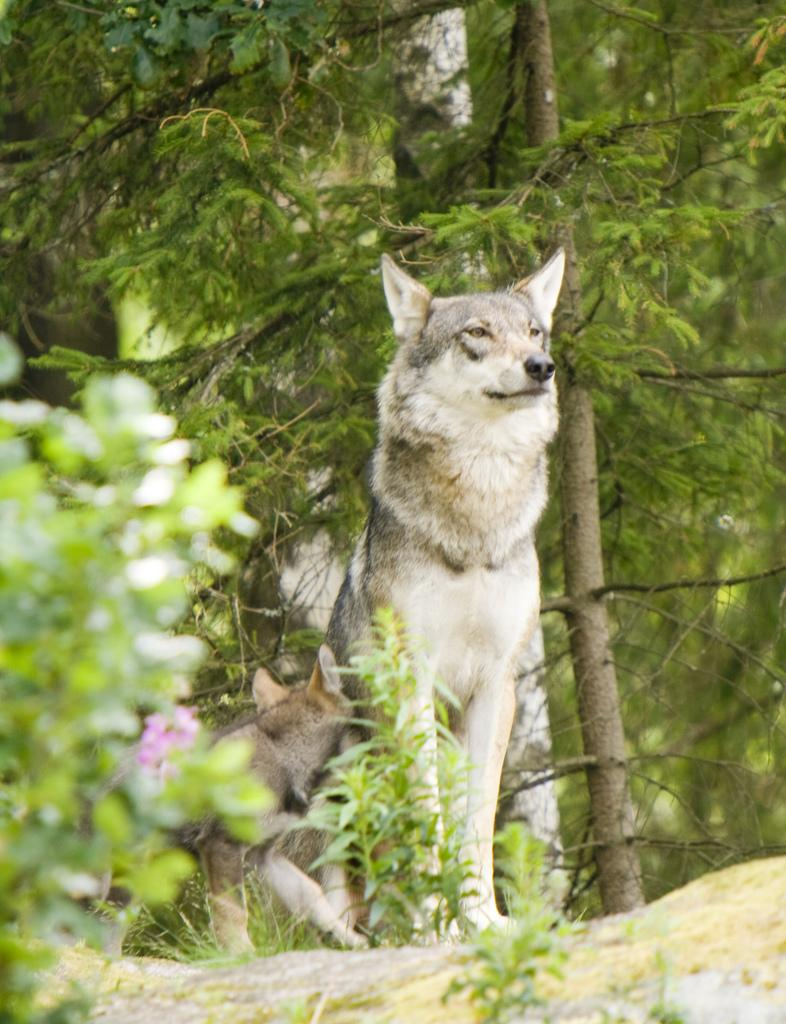Wolf: (234, 248, 574, 927), (94, 638, 374, 954)
